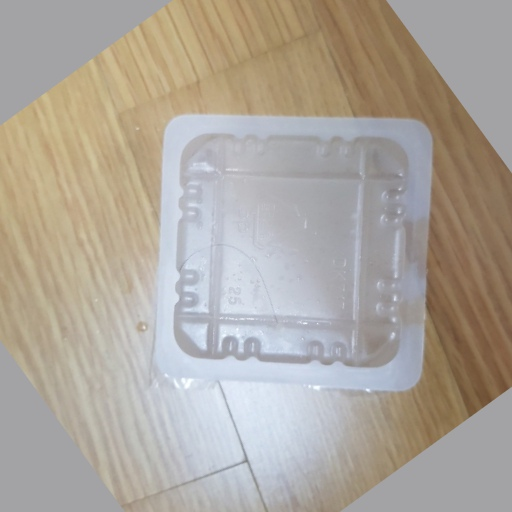Plastic_4: (152, 115, 434, 391)
